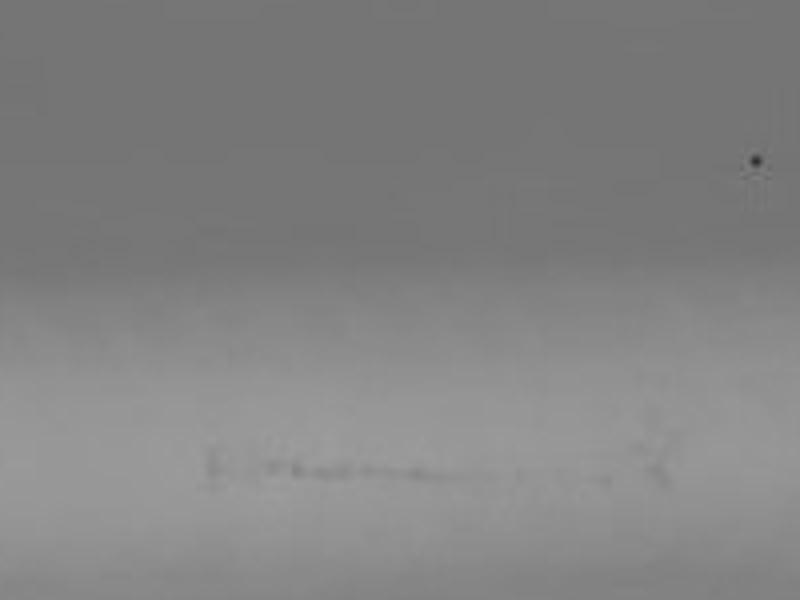defect: (385, 464, 464, 485), (205, 449, 233, 489), (646, 456, 674, 487), (595, 464, 615, 493), (263, 453, 284, 479), (332, 457, 350, 480), (748, 146, 764, 171), (289, 457, 308, 478), (358, 458, 374, 481), (310, 466, 332, 482)
